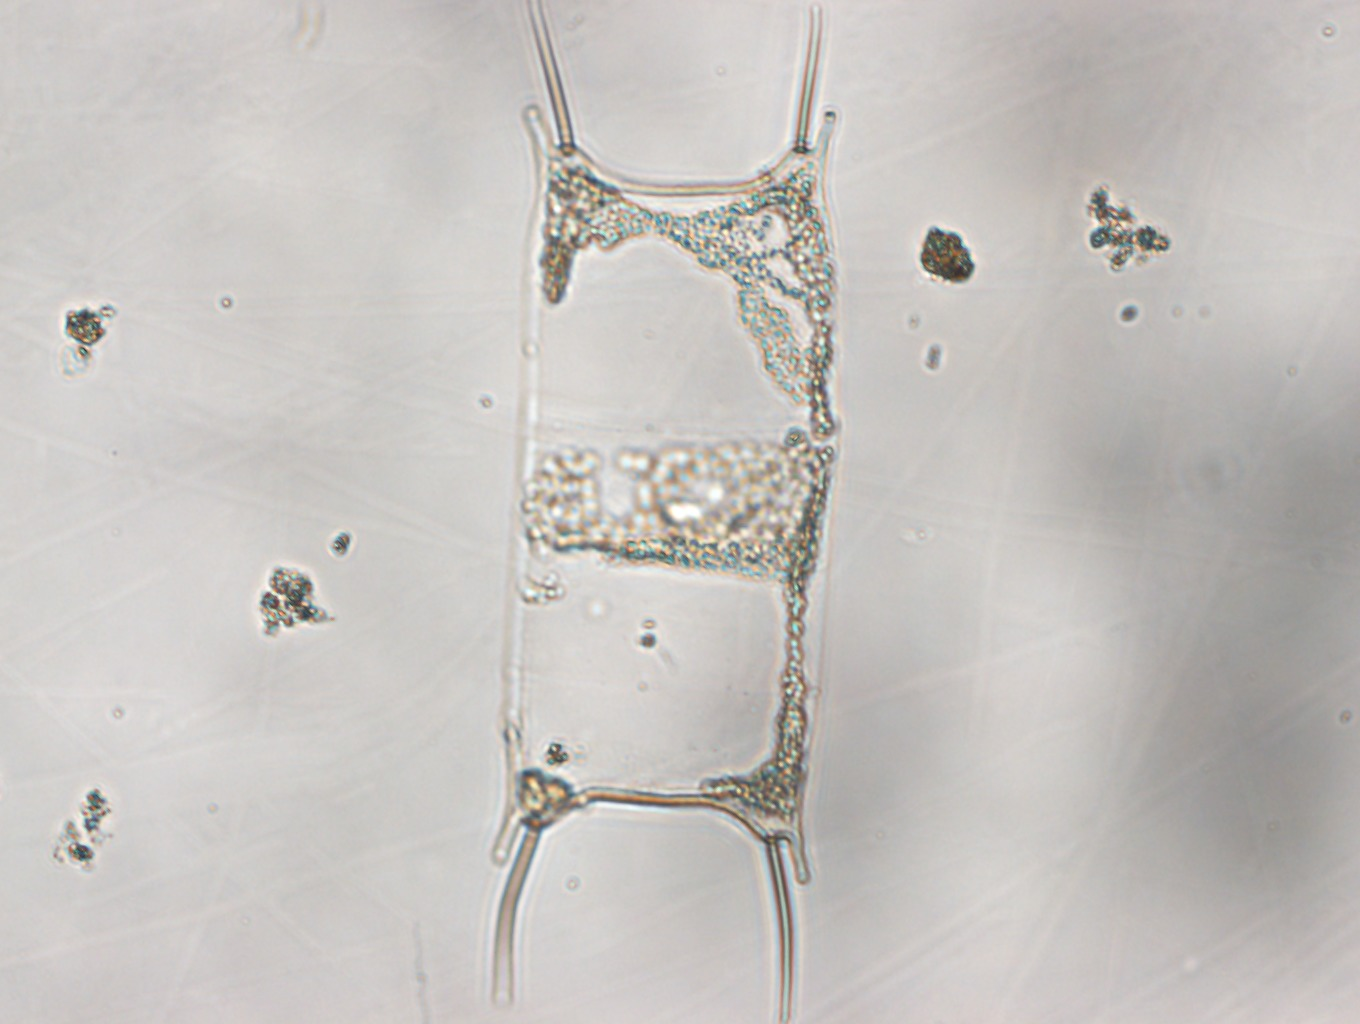biddulphia: (487, 1, 848, 1024)
